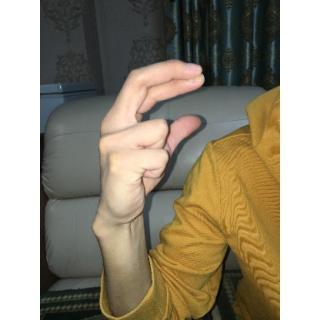DHELL: (88, 53, 206, 246)
